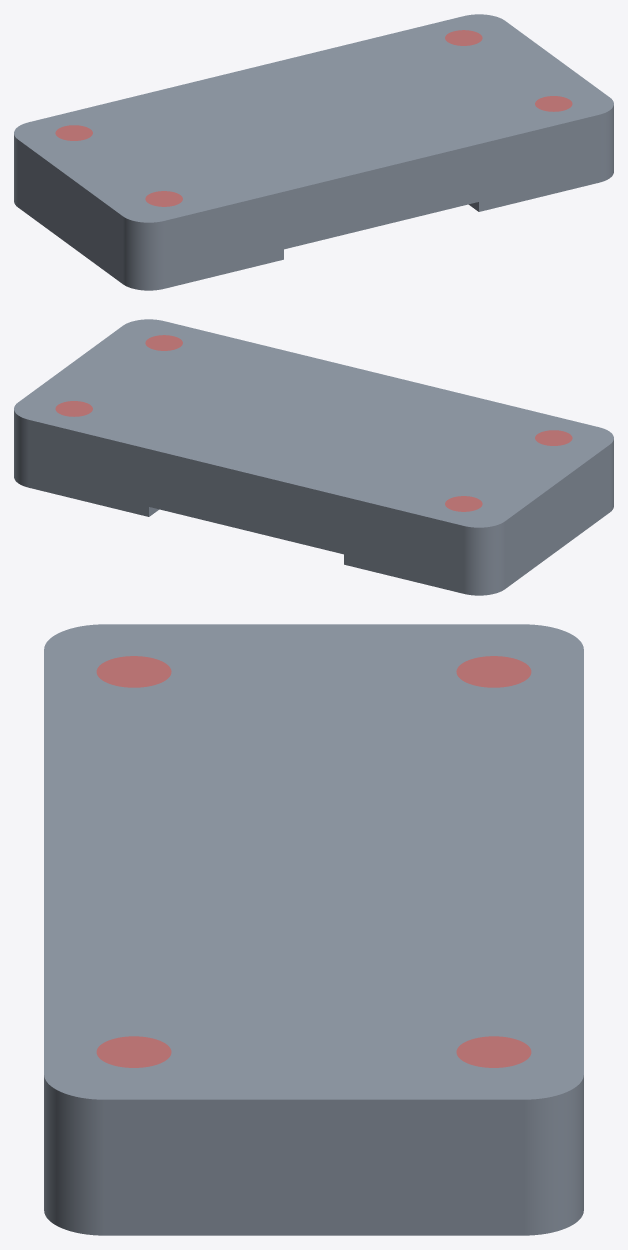
File: step_03.glb
The picture shows the model from 3 angles, top to bottom: view 1: azimuth 30°, elevation 25°; view 2: azimuth 150°, elevation 25°; view 3: azimuth 270°, elevation 25°; orthographic projection. The views are drawn at different scales.
Visible parts, largest first — view 1: part__base, removed__base; view 2: part__base, removed__base; view 3: part__base, removed__base.
Part boxes in pixels (<box>): part__base: <box>14,14,613,290</box>; removed__base: <box>55,30,572,206</box>; part__base: <box>14,319,613,595</box>; removed__base: <box>55,335,572,511</box>; part__base: <box>44,624,583,1235</box>; removed__base: <box>96,656,531,1067</box>.
Size of the model in its own units: 150 by 20 by 72.
